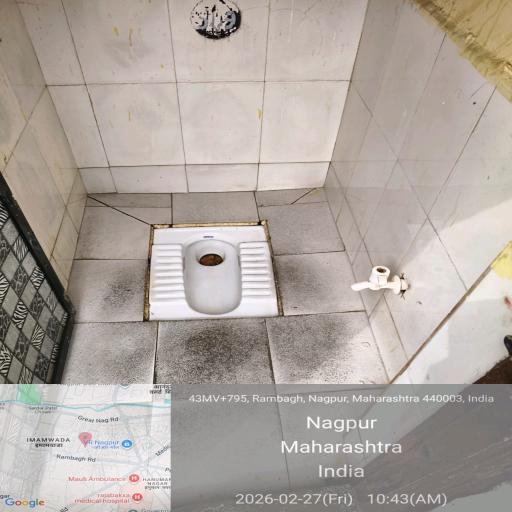partial_dirty_floor: (71, 204, 436, 491), (37, 18, 455, 176)
partial_dirty_indian: (130, 208, 290, 331)
